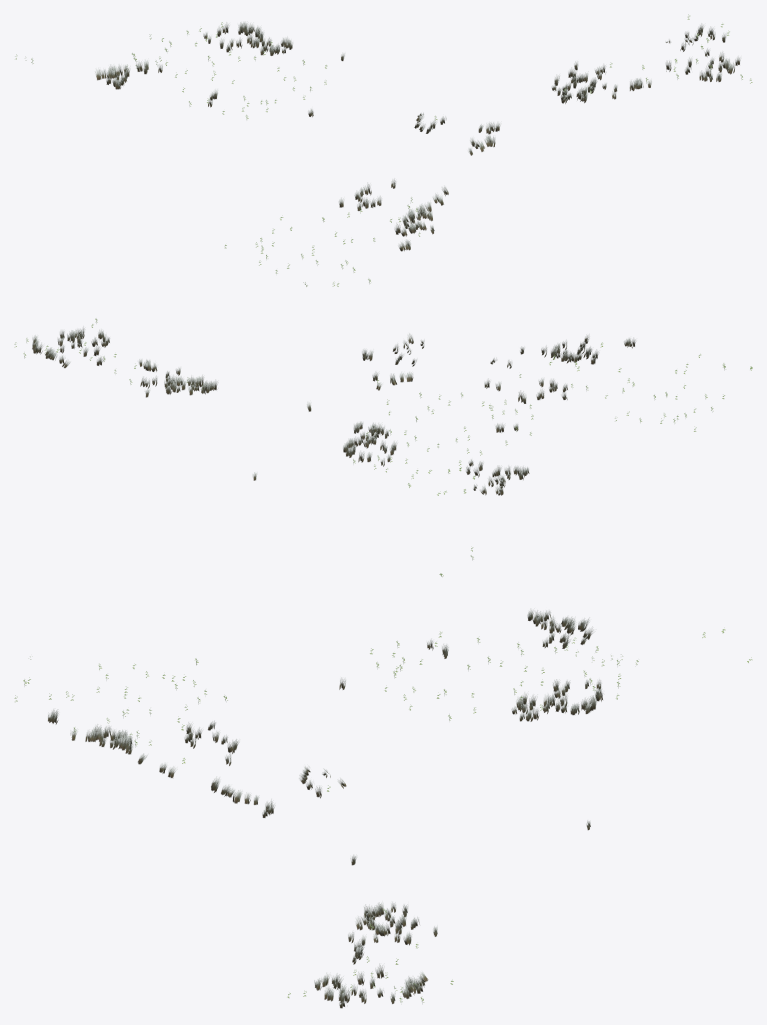
Rendered from FoliageGrp-transformed.glb.
3 views of the same model, one above another, from view 1: azimuth 30°, elevation 25°; view 2: azimuth 150°, elevation 25°; view 3: azimuth 270°, elevation 25° (orthographic). The views are drawn at different scales.
Visible parts, largest first — view 1: FoliageGrp.001; view 2: FoliageGrp.001; view 3: FoliageGrp.001.
Part boxes in pixels (x1,y1,x2,y2): FoliageGrp.001: (15, 14, 752, 286); FoliageGrp.001: (14, 318, 752, 576); FoliageGrp.001: (14, 610, 752, 1008).
Bounding box in the file's own units: 49.04 × 5.85 × 43.55.
Materials: 1 (1 with a texture image).
